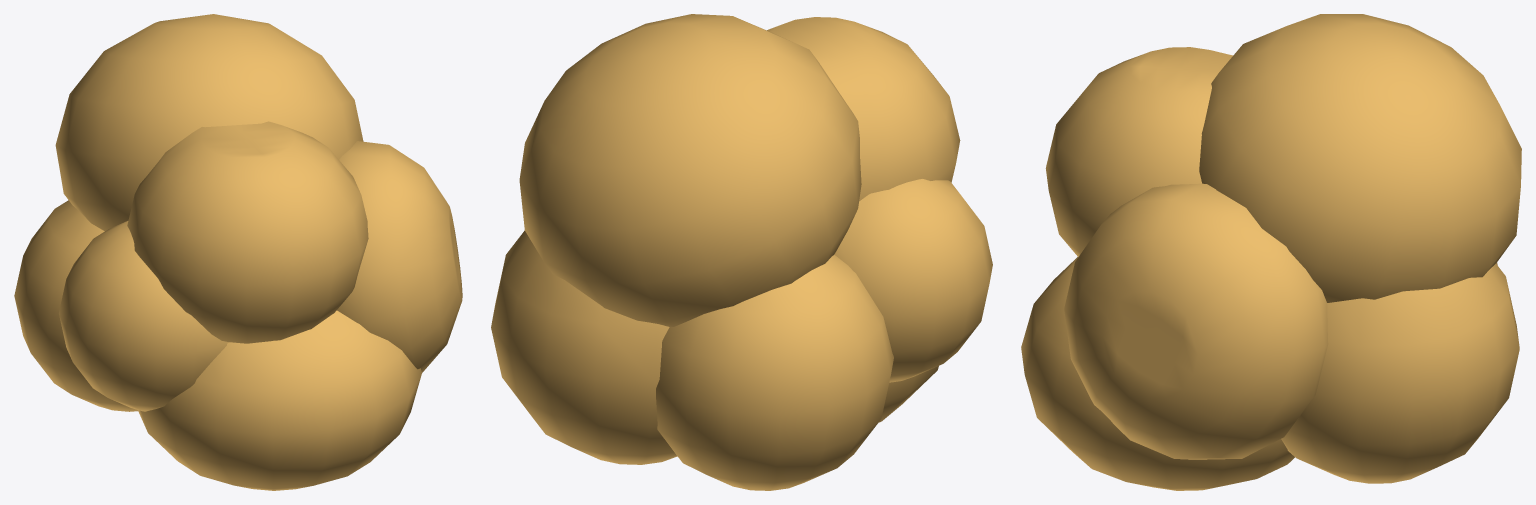
The model's file is corn-done-body.fbx.
The picture shows the model from 3 angles, left to right: view 1: azimuth 30°, elevation 25°; view 2: azimuth 150°, elevation 25°; view 3: azimuth 270°, elevation 25°; orthographic projection. The views are drawn at different scales.
Visible parts, largest first — view 1: corn-done; view 2: corn-done; view 3: corn-done.
Part boxes in pixels (x1=…): corn-done: x1=14, y1=14, x2=462, y2=490; corn-done: x1=491, y1=14, x2=992, y2=490; corn-done: x1=1021, y1=14, x2=1521, y2=490.
Bounding box in the file's own units: 1.23 × 1.22 × 1.27.
